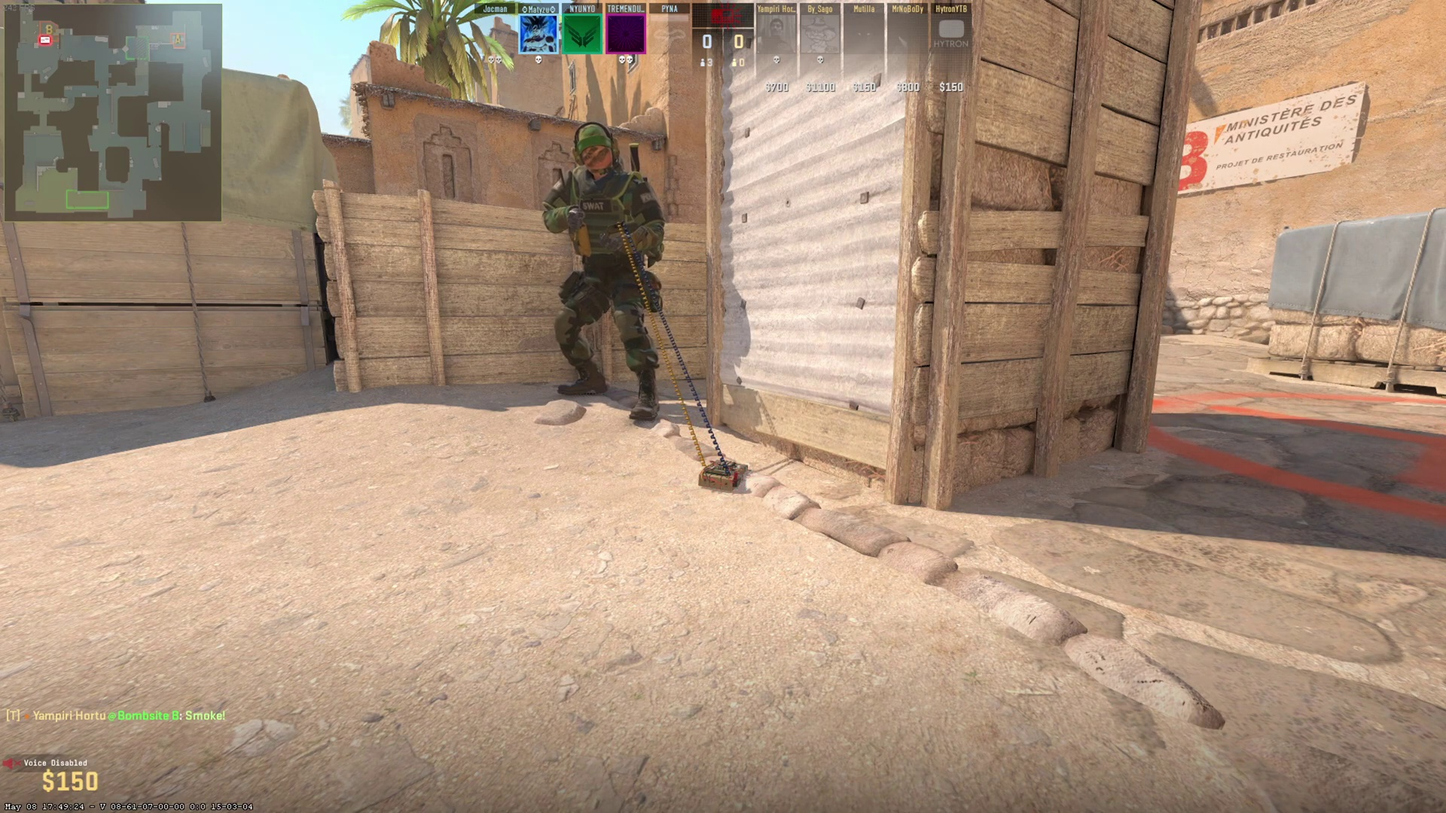CT: (556, 124, 660, 421)
